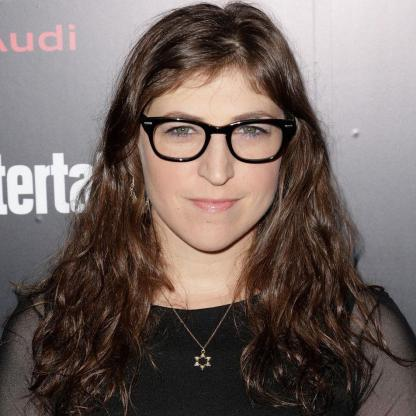glasses: (137, 105, 292, 166)
long-hair: (57, 257, 357, 306)
